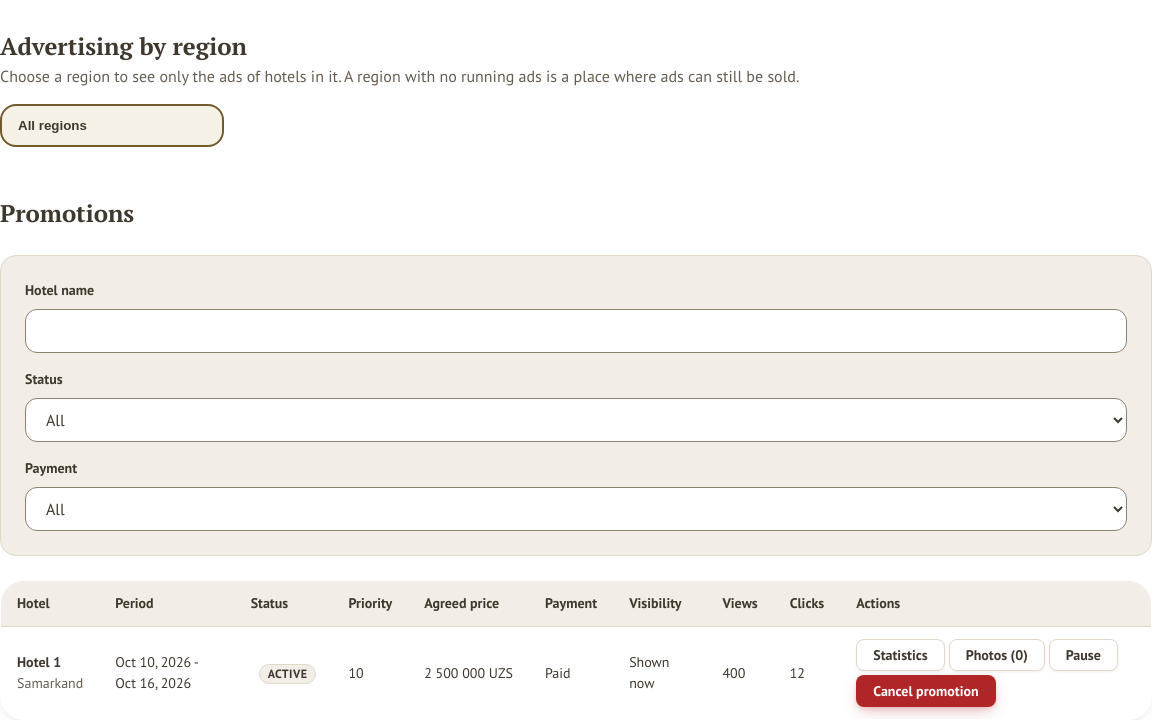
Test: AdminPromotions › statistics › shows the daily numbers, the totals and the click rate
(page scrolled)
What coordinates should you click on to do the following:
click the button "Statistics"
I would click on:
 (900, 655)
Its box is [856,639,945,671].
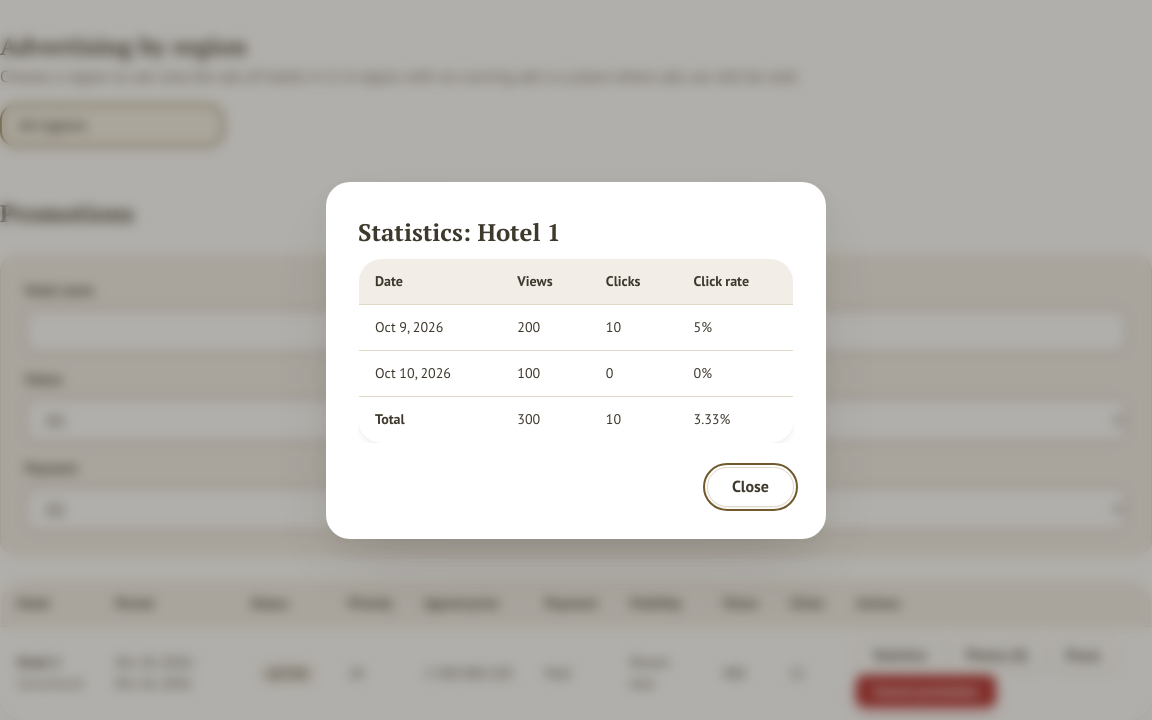
Now the heading "Statistics: Hotel 1" is shown, box [358,216,560,248]
Now the text "200" is shown, box [501,304,590,350]
Now the text "5%" is shown, box [678,304,794,350]
